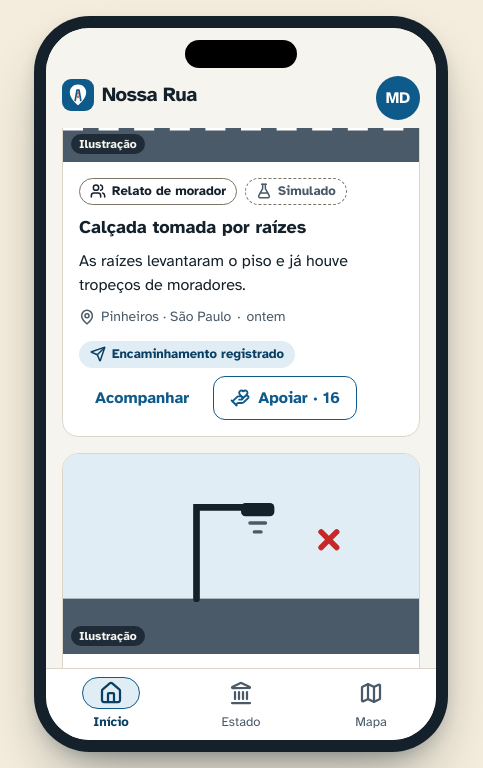
detalhe da publicação › mostra o ciclo completo do relato e quem publicou
The width and height of the screenshot is (483, 768).
(page scrolled)
Click the button "Acompanhar". click: (142,398)
box: [79, 376, 205, 420]
(page scrolled)
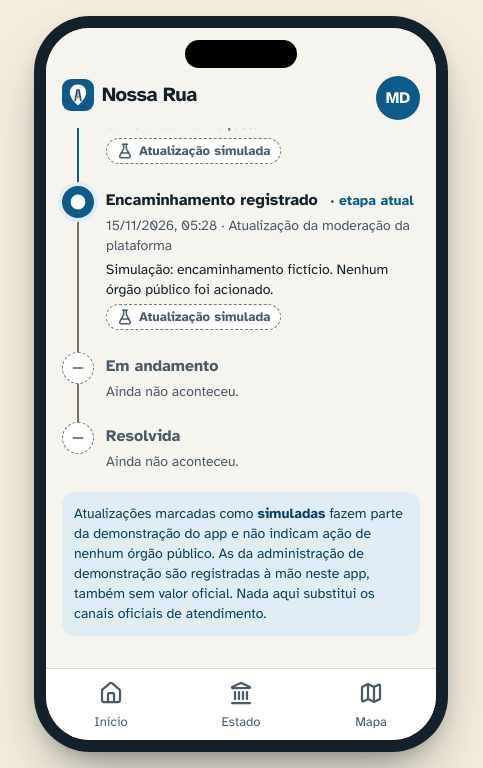
Expected: the text "não indicam ação de nenhum órgão público" is shown, [74, 505, 403, 622]
Expected: the button "Acompanhar" is gone
